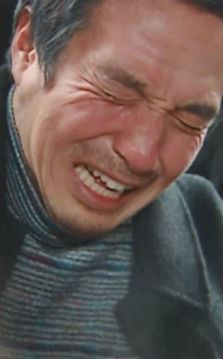sad: (30, 7, 216, 232)
